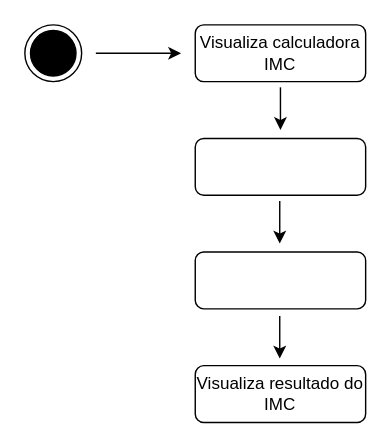
Some shapes in this 391 by 447 pixel diagram are drawn without their labels. The centre of each missing label's shape, as x and y in pixels:
Insere altura: the point at 280,166
Insere peso: the point at 280,280
